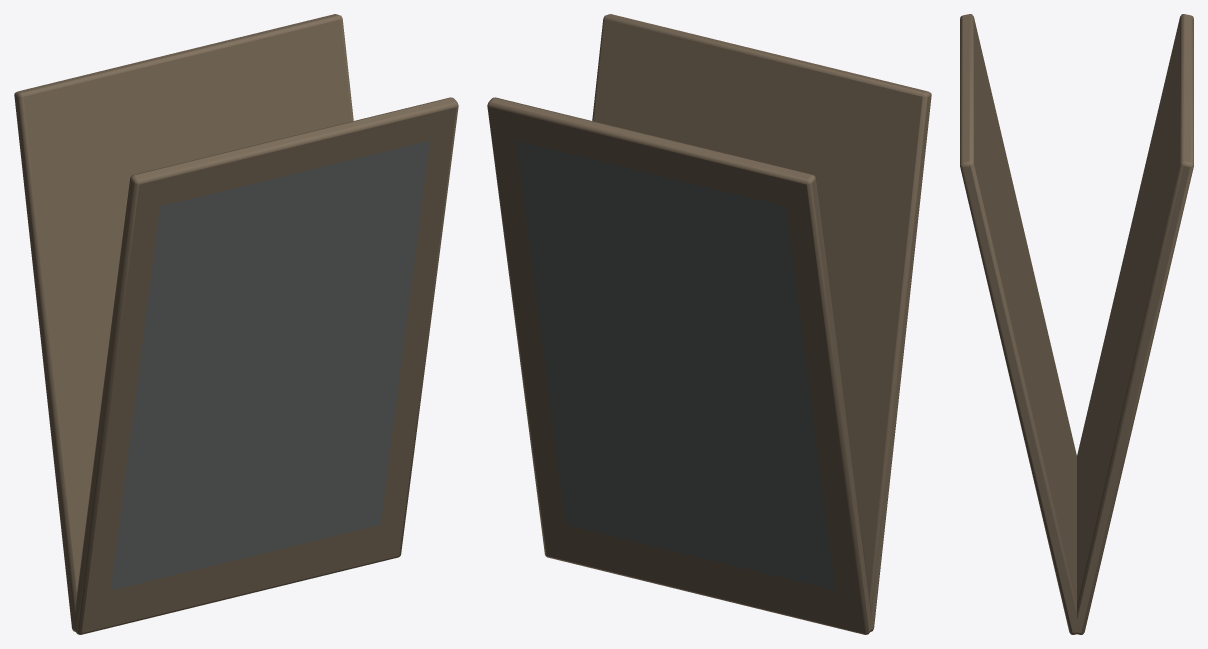
The model's file is sandwich_board.glb.
3 renders of one model, left to right at view 1: azimuth 30°, elevation 25°; view 2: azimuth 150°, elevation 25°; view 3: azimuth 270°, elevation 25°, orthographic. The views are drawn at different scales.
Parts seen in each view (by area): view 1: sandwich_board; view 2: sandwich_board; view 3: sandwich_board.
Part boxes in pixels (x1,y1,x2,y2): sandwich_board: [14, 14, 458, 634]; sandwich_board: [487, 14, 931, 634]; sandwich_board: [960, 14, 1193, 634].
Size of the model in its own units: 0.6 by 0.8828 by 0.3952.
